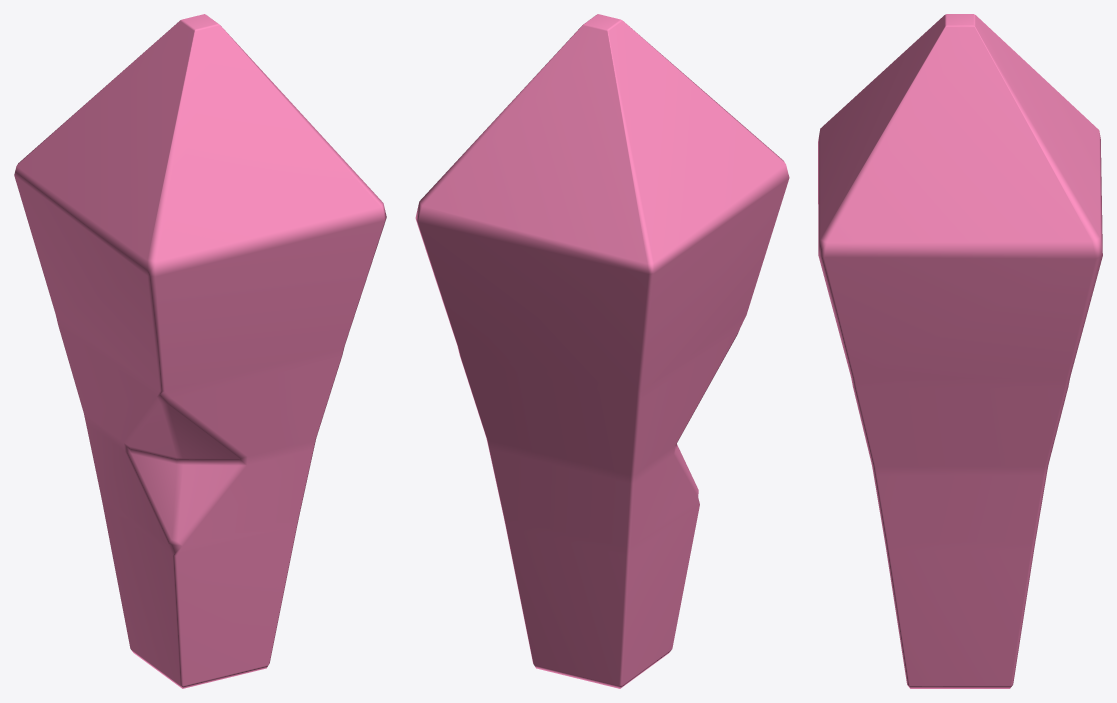
The model's file is Crystal5.fbx.
3 views of the same model, side by side, from view 1: azimuth 30°, elevation 25°; view 2: azimuth 150°, elevation 25°; view 3: azimuth 270°, elevation 25° (orthographic).
Visible parts, largest first — view 1: Crystal5; view 2: Crystal5; view 3: Crystal5.
Part boxes in pixels (x1,y1,x2,y2): Crystal5: (14,14,386,688); Crystal5: (415,14,789,688); Crystal5: (818,14,1102,688).
Bounding box in the file's own units: 60.93 × 155 × 61.63.
